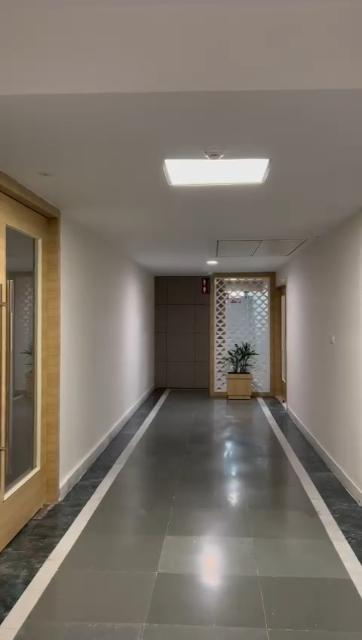door: (0, 178, 52, 512), (271, 286, 287, 398)
floor: (1, 387, 360, 640)
object: (225, 342, 257, 401)
wall: (64, 218, 152, 478), (287, 208, 361, 492)
